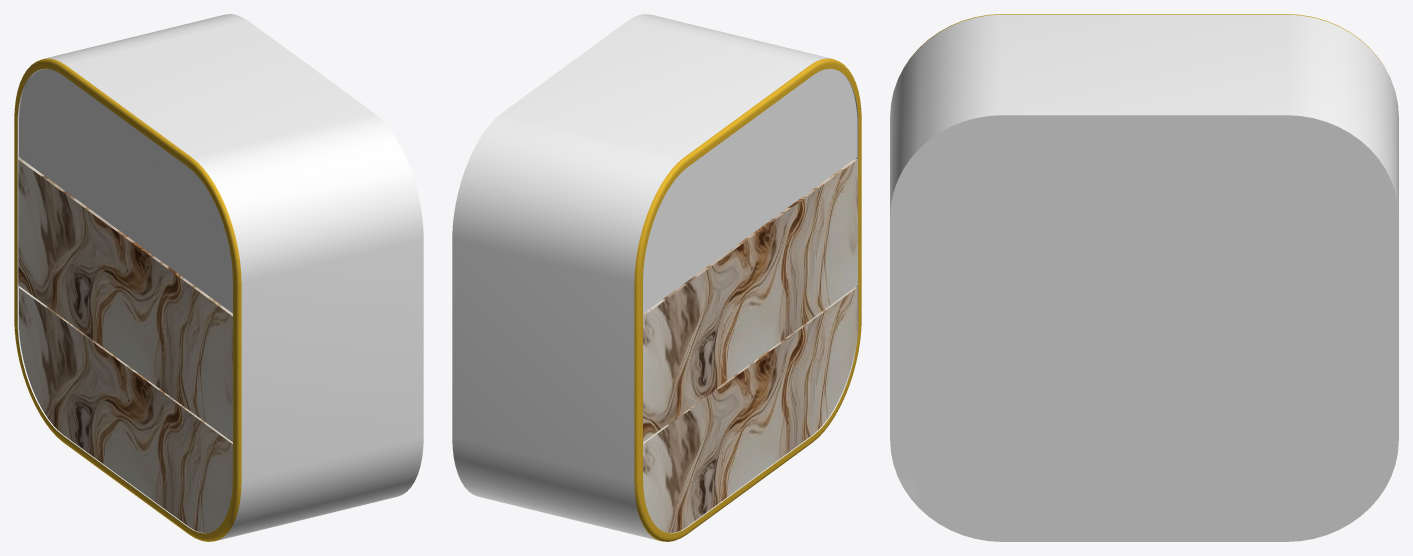
File: 1tumba3.glb
3 renders of one model, left to right at view 1: azimuth 30°, elevation 25°; view 2: azimuth 150°, elevation 25°; view 3: azimuth 270°, elevation 25°, orthographic. The views are drawn at different scales.
Parts seen in each view (by area): view 1: tumba, Object03, Object02, Object01; view 2: tumba, Object03, Object02, Object01; view 3: tumba.
Boxes of the visible parts, x1,y1,x2,y2 form: tumba: [14, 14, 423, 541]; Object03: [18, 159, 232, 441]; Object02: [19, 287, 232, 532]; Object01: [19, 68, 232, 313]; tumba: [452, 14, 861, 541]; Object03: [643, 158, 857, 441]; Object02: [643, 287, 857, 532]; Object01: [643, 68, 857, 313]; tumba: [890, 14, 1398, 541].
Bounding box in the file's own units: 0.2246 × 0.435 × 0.47.
4 materials, 1 textured.
